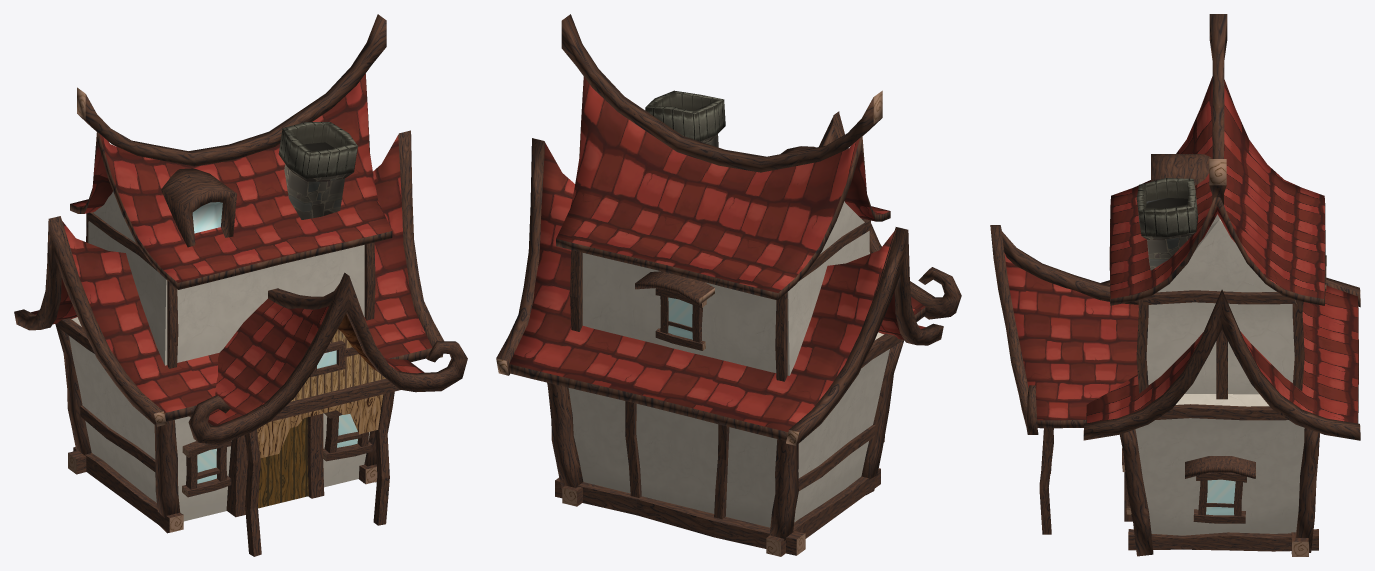
The model's file is Main_House_Asset.fbx.
The picture shows the model from 3 angles, left to right: view 1: azimuth 30°, elevation 25°; view 2: azimuth 150°, elevation 25°; view 3: azimuth 270°, elevation 25°; orthographic projection. The views are drawn at different scales.
Visible parts, largest first — view 1: Main_House, Cerobong, Door_Main, WindowRoof, Window.001, Window_Main; view 2: Main_House, Cerobong; view 3: Main_House, Cerobong, WindowandRoof_Main, WindowRoof.
Part boxes in pixels (left/top/right/bottom): Main_House: left=14, top=14, right=467, bottom=556; Cerobong: left=278, top=122, right=357, bottom=219; Door_Main: left=226, top=413, right=324, bottom=517; WindowRoof: left=161, top=168, right=236, bottom=247; Window.001: left=182, top=441, right=231, bottom=497; Window_Main: left=323, top=410, right=372, bottom=461; Main_House: left=496, top=14, right=961, bottom=556; Cerobong: left=645, top=90, right=725, bottom=147; Main_House: left=990, top=14, right=1360, bottom=556; Cerobong: left=1136, top=178, right=1198, bottom=270; WindowandRoof_Main: left=1185, top=456, right=1255, bottom=523; WindowRoof: left=1151, top=154, right=1211, bottom=185.
Size of the model in its own units: 605 by 676 by 541.
Materials: 9 (9 with a texture image).
